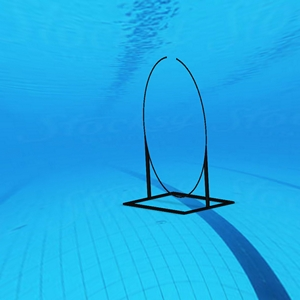circle: (120, 54, 239, 217)
